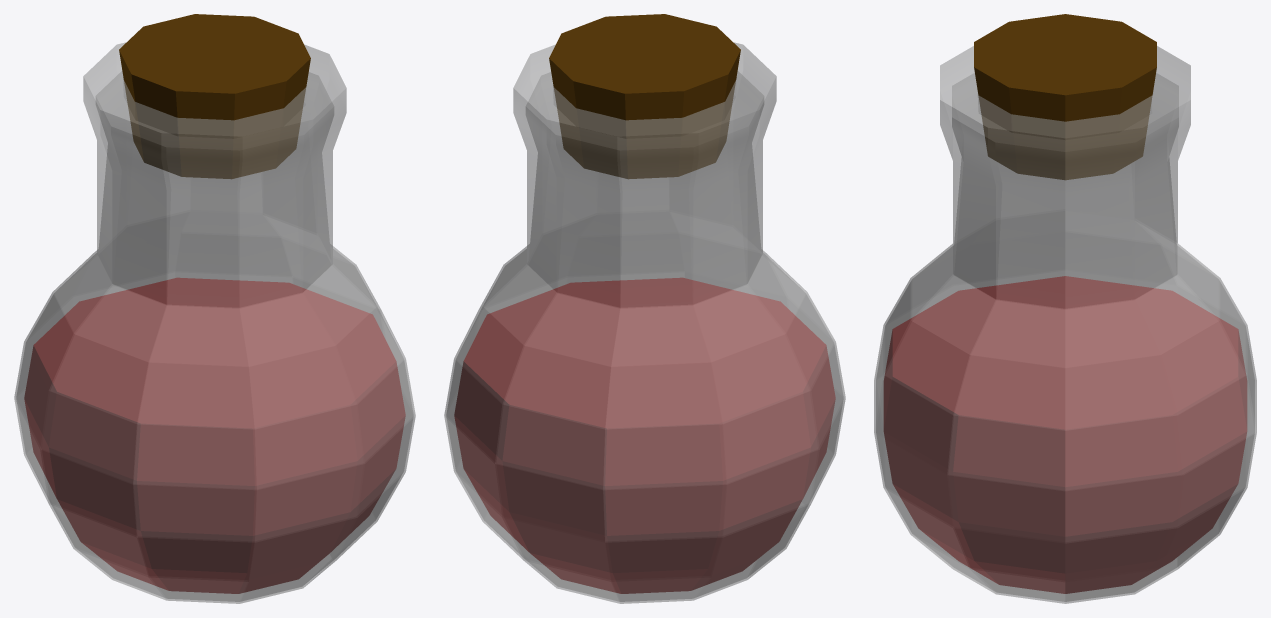
Rendered from HydraBlood.fbx.
The picture shows the model from 3 angles, left to right: view 1: azimuth 30°, elevation 25°; view 2: azimuth 150°, elevation 25°; view 3: azimuth 270°, elevation 25°; orthographic projection.
Visible parts, largest first — view 1: HydraBlood; view 2: HydraBlood; view 3: HydraBlood.
Part boxes in pixels (x1,y1,x2,y2): HydraBlood: (14, 14, 415, 603); HydraBlood: (444, 14, 845, 603); HydraBlood: (874, 14, 1256, 603).
Size of the model in its own units: 20 by 27.37 by 19.02.
